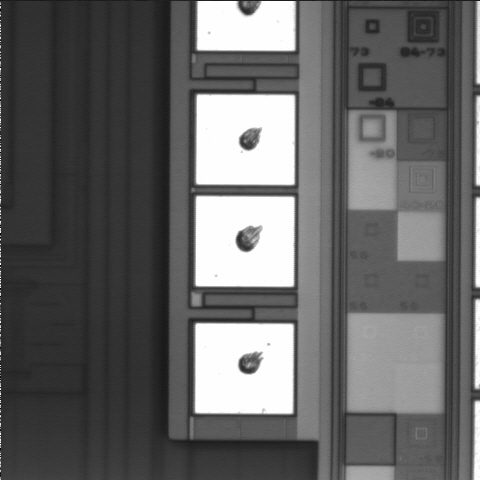pad: (196, 196, 294, 287), (195, 323, 293, 414), (196, 95, 295, 185)
